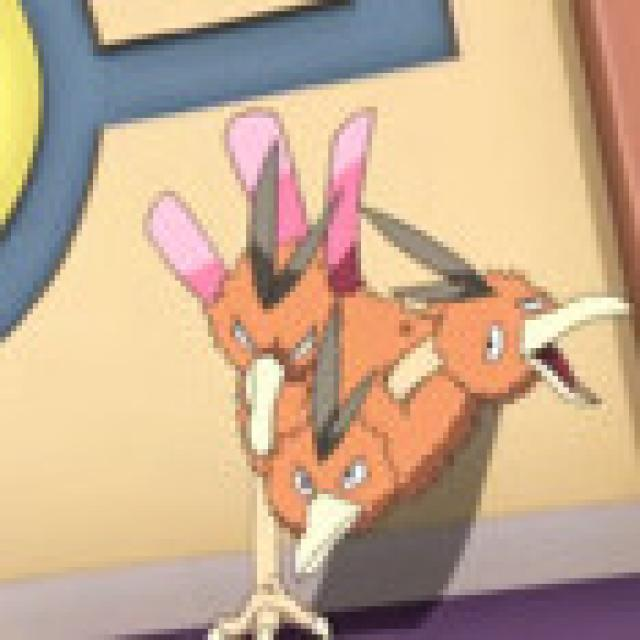Dodrio: (132, 115, 605, 640)
